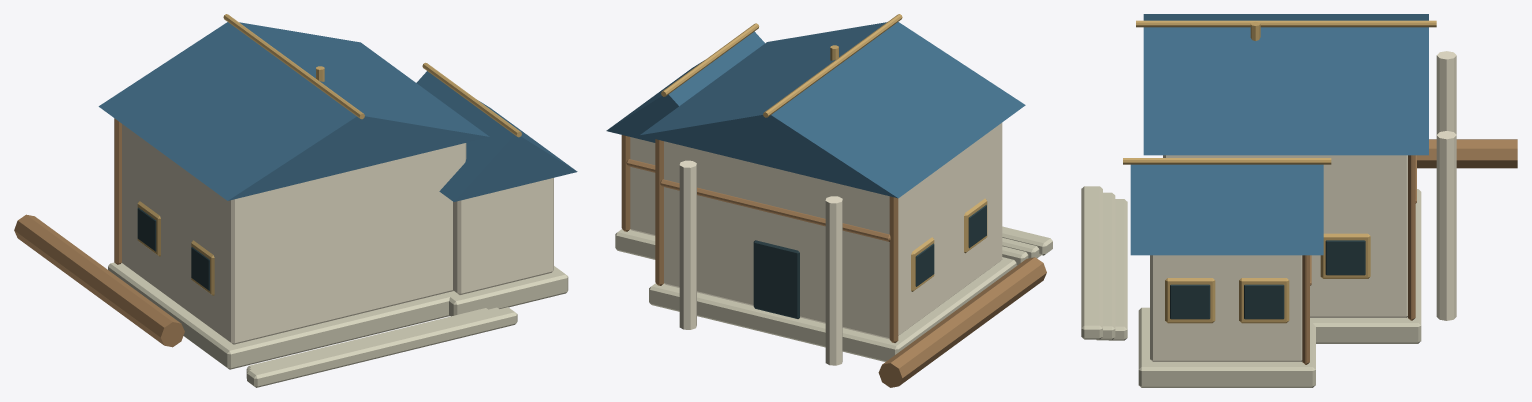
File: level_19.glb
3 renders of one model, left to right at view 1: azimuth 30°, elevation 25°; view 2: azimuth 150°, elevation 25°; view 3: azimuth 270°, elevation 25°, orthographic. The views are drawn at different scales.
Parts seen in each view (by area): view 1: timber_yard — level 19; view 2: timber_yard — level 19; view 3: timber_yard — level 19.
Part boxes in pixels (left/top/right/bottom): timber_yard — level 19: left=14, top=14, right=577, bottom=387; timber_yard — level 19: left=606, top=14, right=1052, bottom=387; timber_yard — level 19: left=1081, top=14, right=1517, bottom=387.
Size of the model in its own units: 6.43 by 3.71 by 5.66.
